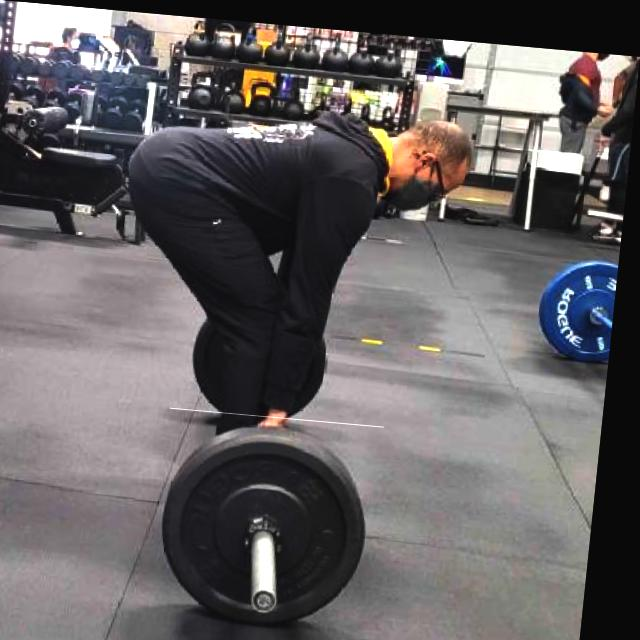barbell: (161, 405, 393, 639)
